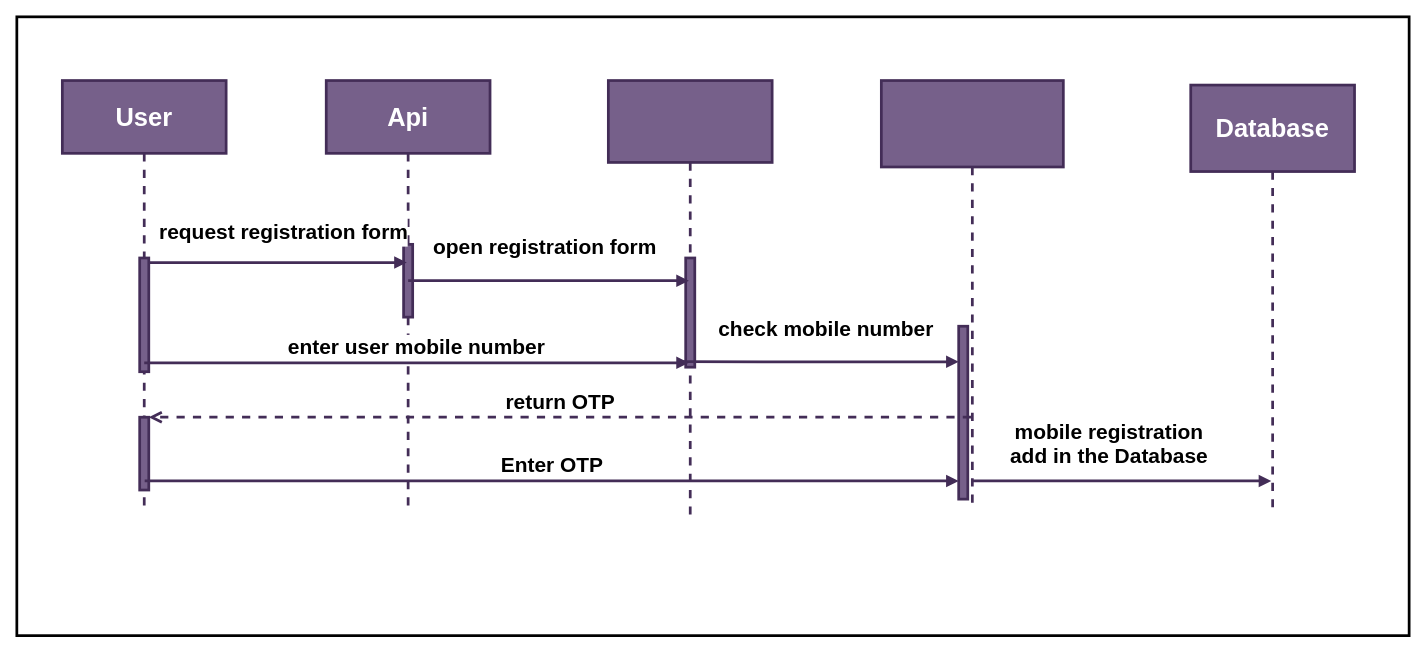
The diagram is 1426 pixels wide and 652 high, and some of its shapes have lost their labels. Each missing label, with the box of its shape:
Authintication: (880, 79, 1064, 509)
Registratiion: (607, 79, 773, 518)
